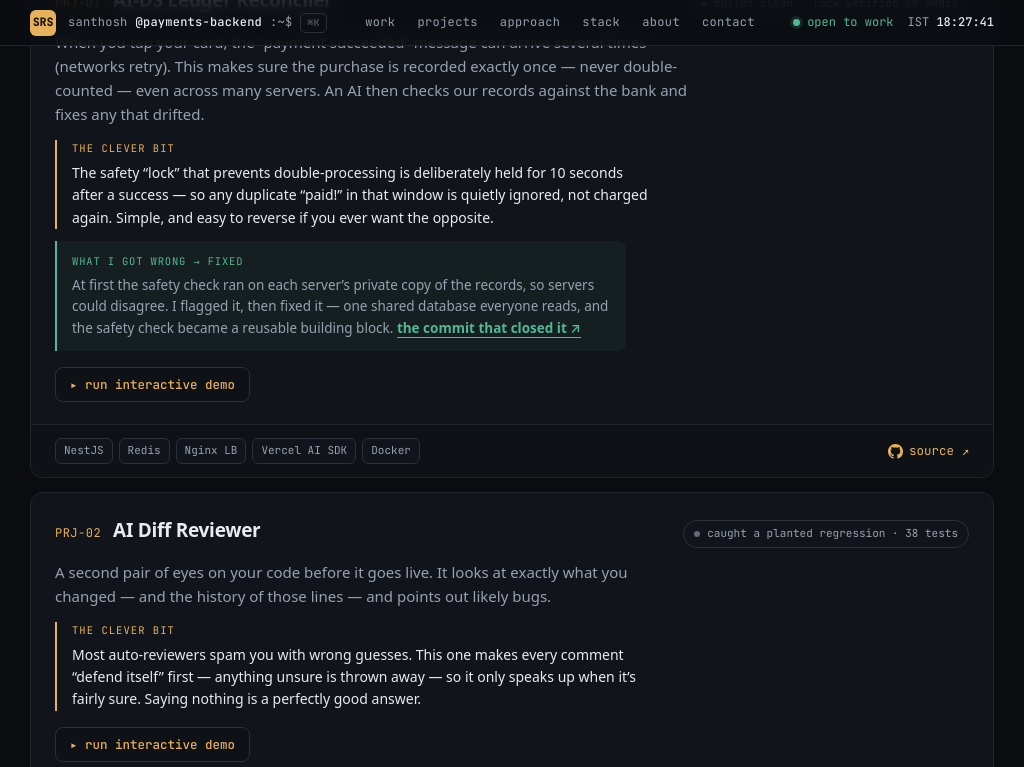
Test: ConcurrencyDemo (ledger reconciler) › starts idle with an explanatory note
(page scrolled)
Click the button "▸ run interactive demo" below "the commit that closed it" at x=152, y=385, box [55, 368, 250, 402]
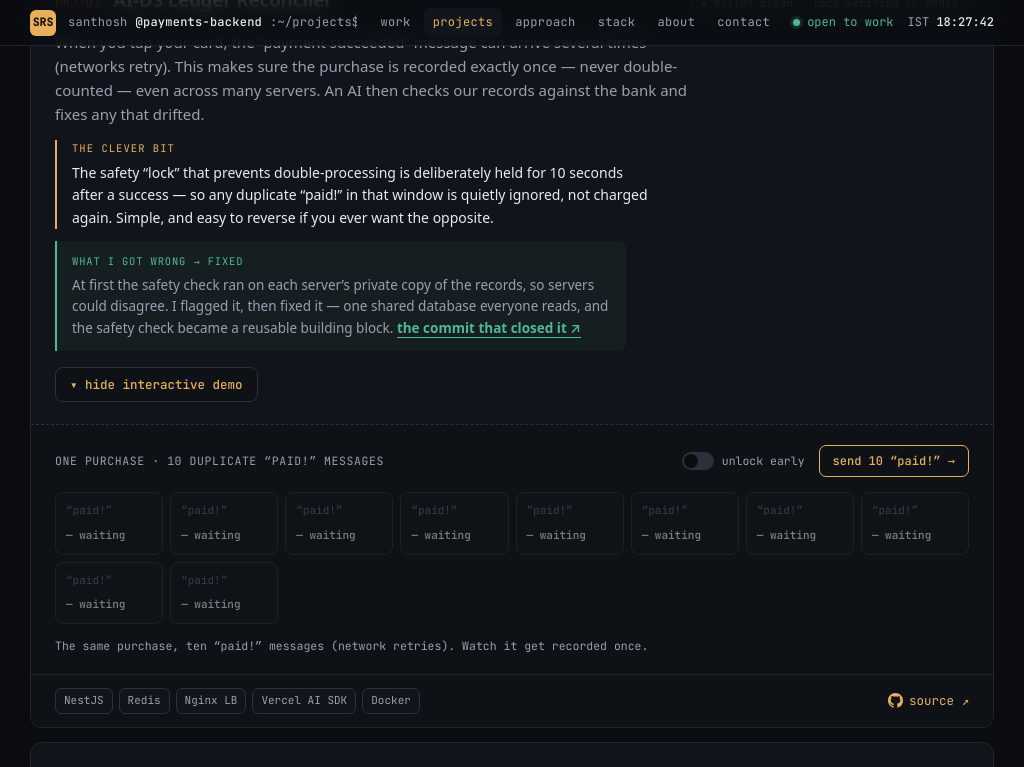
Expected: the number of elements with class "idle" is 10
Expected: the text "Watch it get recorded once" is shown, [55, 638, 648, 653]
